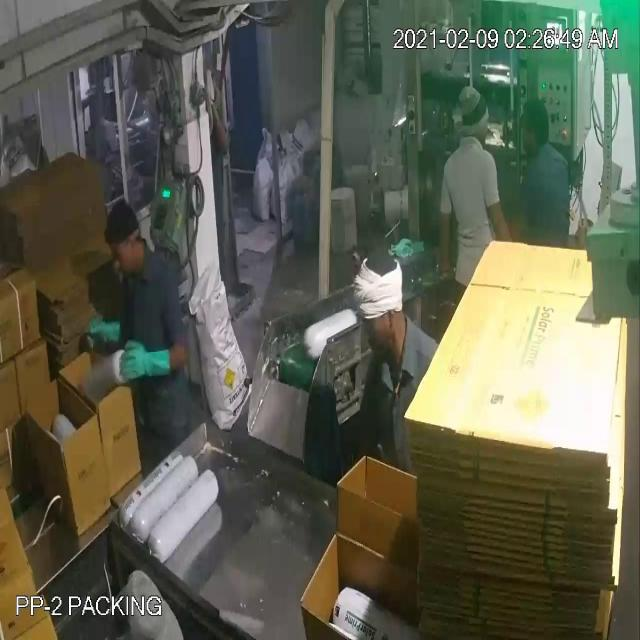Gloves: (25, 45, 445, 364)
